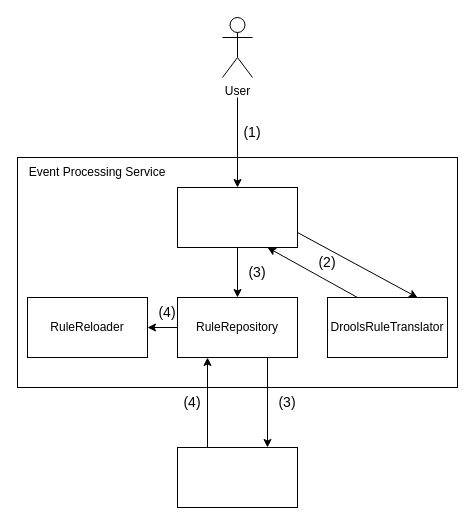
Some shapes in this 475 by 525 pixel diagram are drawn without their labels. The shapes that lost their labels are listed below. From the top down, each one's box as (x1, y1, x2, y2) in pixels, then its label:
(176, 186, 298, 248): RuleController
(176, 446, 298, 508): Rule storage
